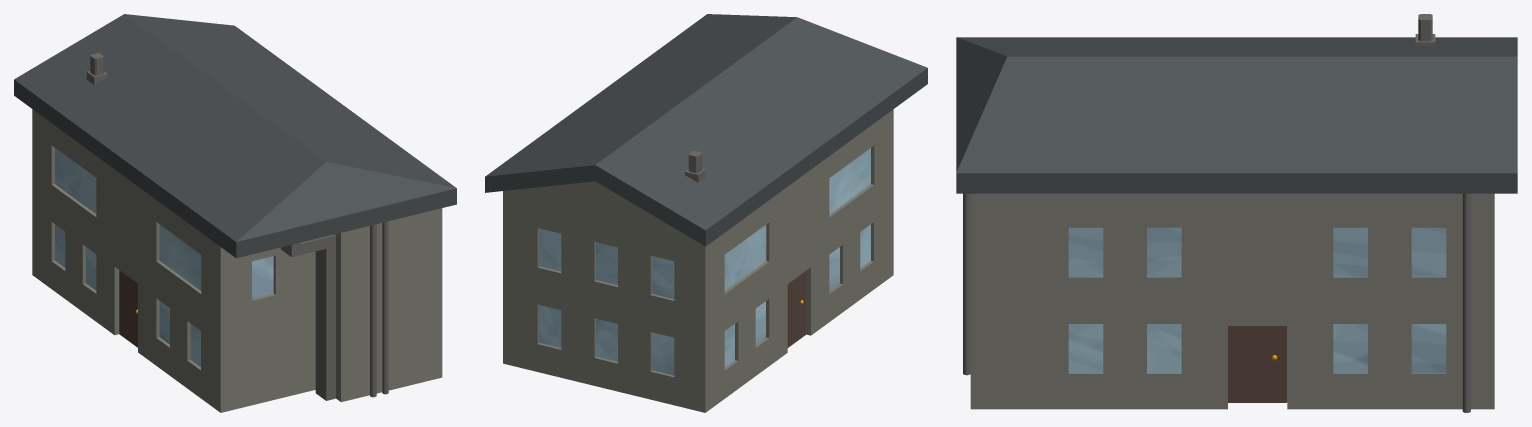
File: TPCS_Hochhouse_001_V1.fbx
3 renders of one model, left to right at view 1: azimuth 30°, elevation 25°; view 2: azimuth 150°, elevation 25°; view 3: azimuth 270°, elevation 25°, orthographic. The views are drawn at different scales.
Parts seen in each view (by area): view 1: Cube.204; view 2: Cube.204; view 3: Cube.204.
Part boxes in pixels (x1=…): Cube.204: x1=14, y1=14, x2=456, y2=412; Cube.204: x1=485, y1=14, x2=927, y2=412; Cube.204: x1=956, y1=14, x2=1517, y2=412.
Size of the model in its own units: 609 by 607 by 1062.
